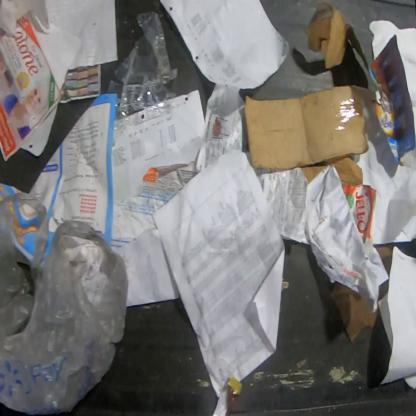cardboard: (244, 84, 376, 171), (303, 0, 370, 79), (328, 280, 381, 343), (342, 182, 378, 243), (300, 156, 363, 187), (373, 243, 411, 278), (378, 278, 389, 302)
rigid_plastic: (106, 10, 178, 142)
soft_plastic: (0, 191, 131, 415)
